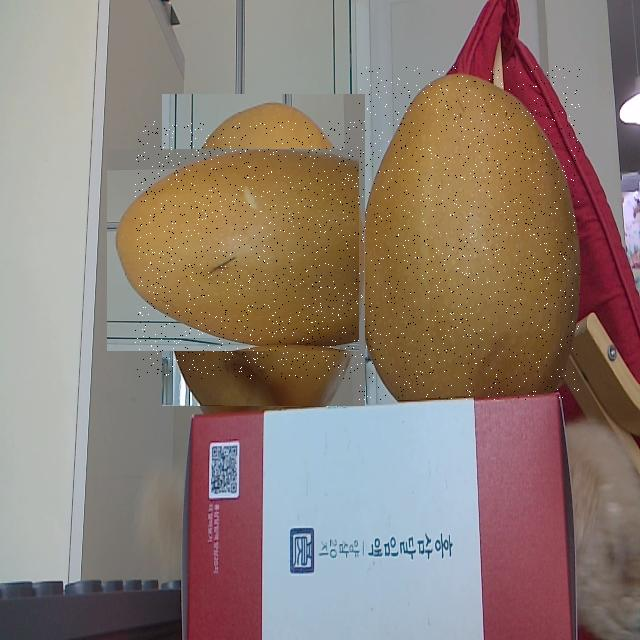pear: (359, 67, 580, 400), (135, 121, 392, 379)
